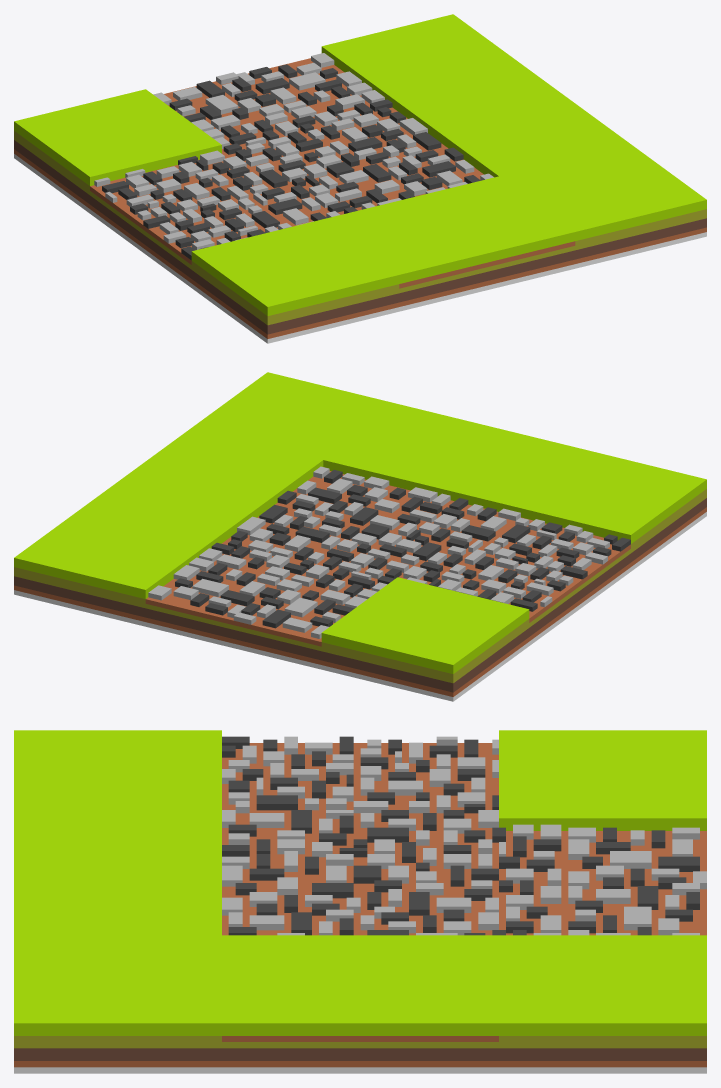
The model's file is Ways-2-Way Corner.obj.
3 views of the same model, one above another, from view 1: azimuth 30°, elevation 25°; view 2: azimuth 150°, elevation 25°; view 3: azimuth 270°, elevation 25° (orthographic). The views are drawn at different scales.
Parts seen in each view (by area): view 1: Way Corner; view 2: Way Corner; view 3: Way Corner.
Boxes of the visible parts, box(x1,y1,x2,y2) form: Way Corner: box(14, 14, 706, 343); Way Corner: box(14, 372, 706, 701); Way Corner: box(14, 730, 706, 1073).
Size of the model in its own units: 10 by 0.8 by 10.
1 material, 1 textured.
